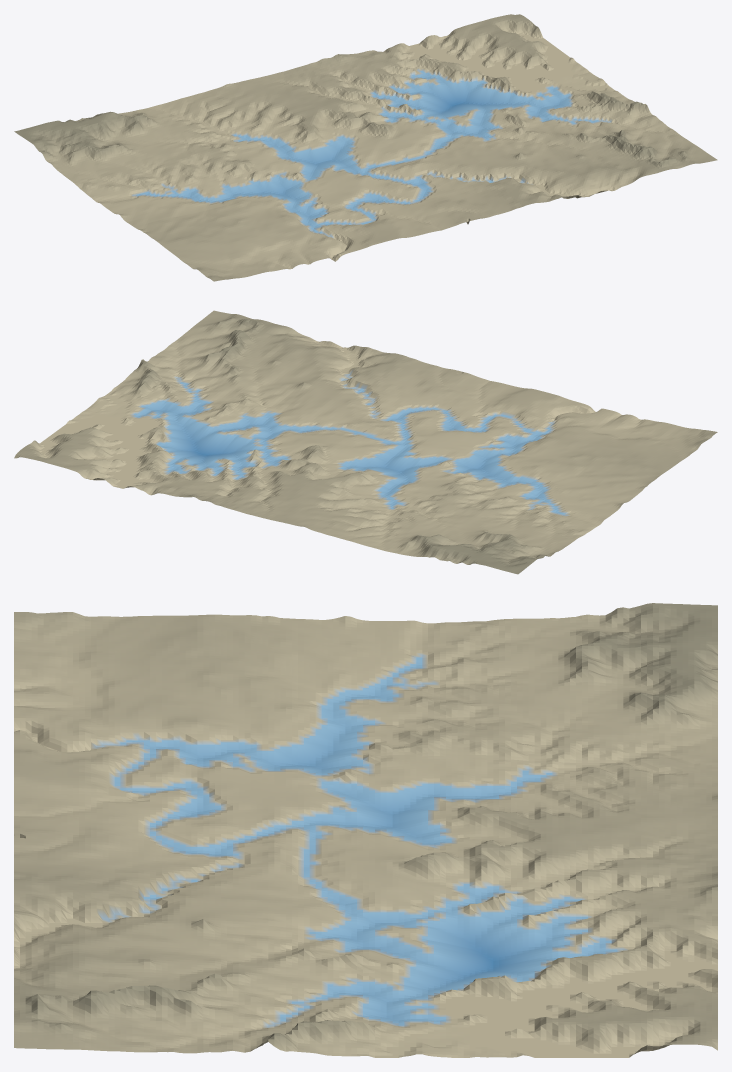
The model's file is lake_powell_ut.glb.
The picture shows the model from 3 angles, top to bottom: view 1: azimuth 30°, elevation 25°; view 2: azimuth 150°, elevation 25°; view 3: azimuth 270°, elevation 25°; orthographic projection. The views are drawn at different scales.
Visible parts, largest first — view 1: terrain, water; view 2: terrain, water; view 3: terrain, water.
Boxes of the visible parts, x1=… form: terrain: x1=14, y1=14, x2=717, y2=281; water: x1=136, y1=71, x2=598, y2=232; terrain: x1=14, y1=310, x2=717, y2=574; water: x1=134, y1=382, x2=564, y2=514; terrain: x1=14, y1=603, x2=717, y2=1057; water: x1=114, y1=657, x2=617, y2=1025.
Size of the model in its own units: 35958 by 1459 by 24682.
